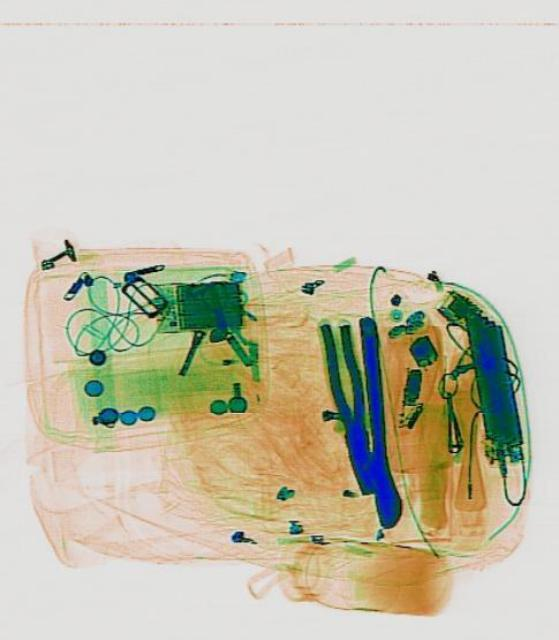Pliers: (314, 318, 386, 497)
Wrench: (346, 311, 403, 529)
